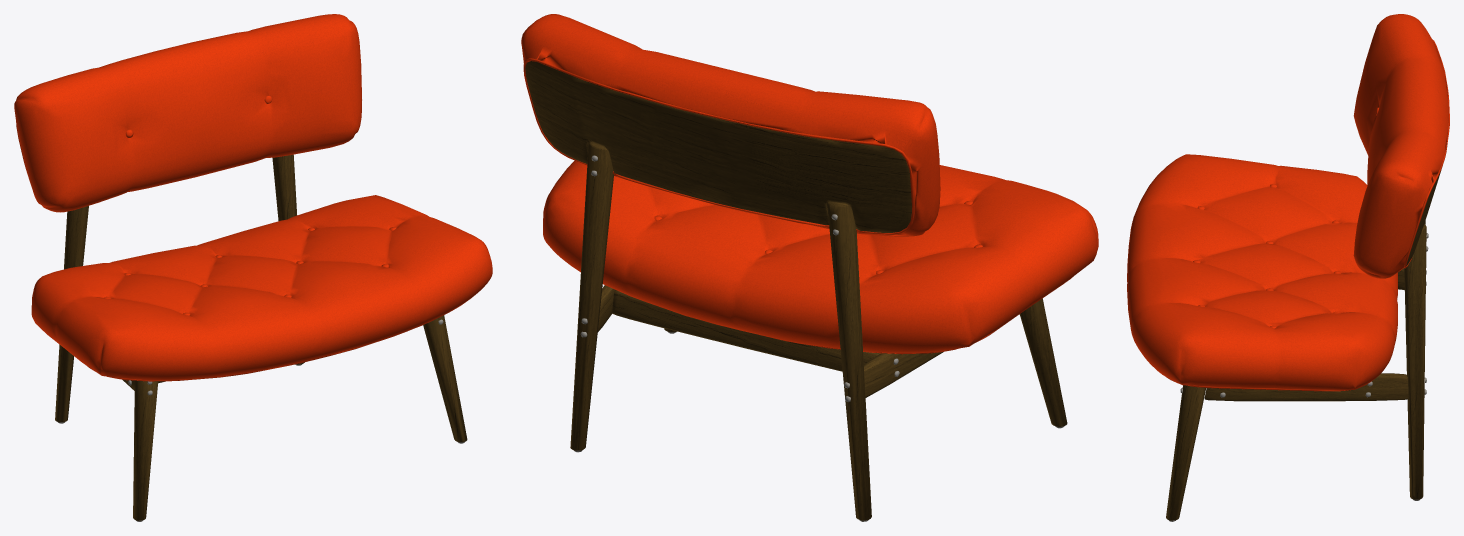
Rendered from armchair.glb.
The picture shows the model from 3 angles, left to right: view 1: azimuth 30°, elevation 25°; view 2: azimuth 150°, elevation 25°; view 3: azimuth 270°, elevation 25°; orthographic projection. The views are drawn at different scales.
Visible parts, largest first — view 1: SheenChair_fabric, SheenChair_wood; view 2: SheenChair_fabric, SheenChair_wood; view 3: SheenChair_fabric, SheenChair_wood.
Boxes of the visible parts, <box> form: SheenChair_fabric: <box>14,14,492,381</box>; SheenChair_wood: <box>55,154,467,520</box>; SheenChair_fabric: <box>521,14,1098,354</box>; SheenChair_wood: <box>525,61,1067,520</box>; SheenChair_fabric: <box>1127,14,1449,391</box>; SheenChair_wood: <box>1166,170,1441,520</box>.
Size of the model in its own units: 0.8265 by 0.6861 by 0.57.
4 materials, 3 textured.
